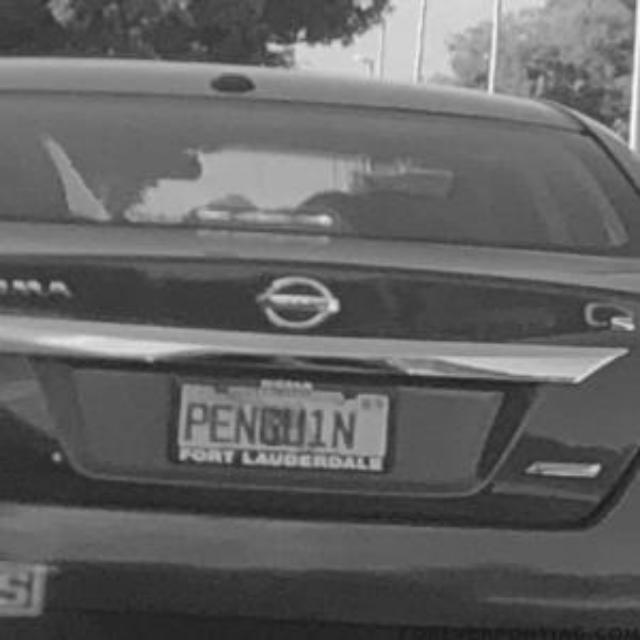License Plate: (175, 380, 390, 472)
